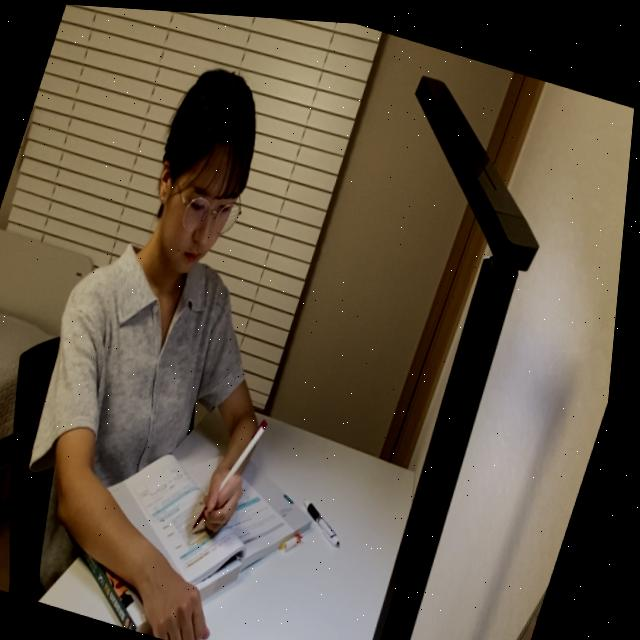studying-person: (0, 22, 461, 640)
